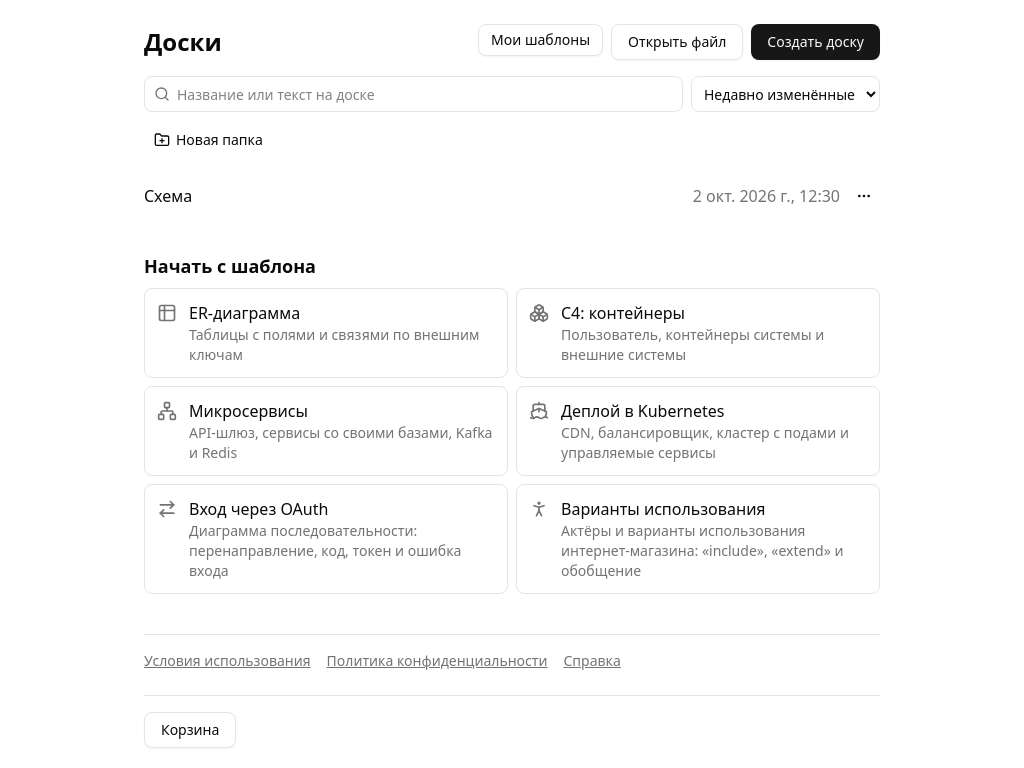
BoardsPage › keeps the title when renaming is cancelled with Escape or the title is left empty
This screenshot has width=1024, height=768.
Click the button named "Меню доски «Схема»" at (864, 196), box x1=848 y1=180 x2=880 y2=212
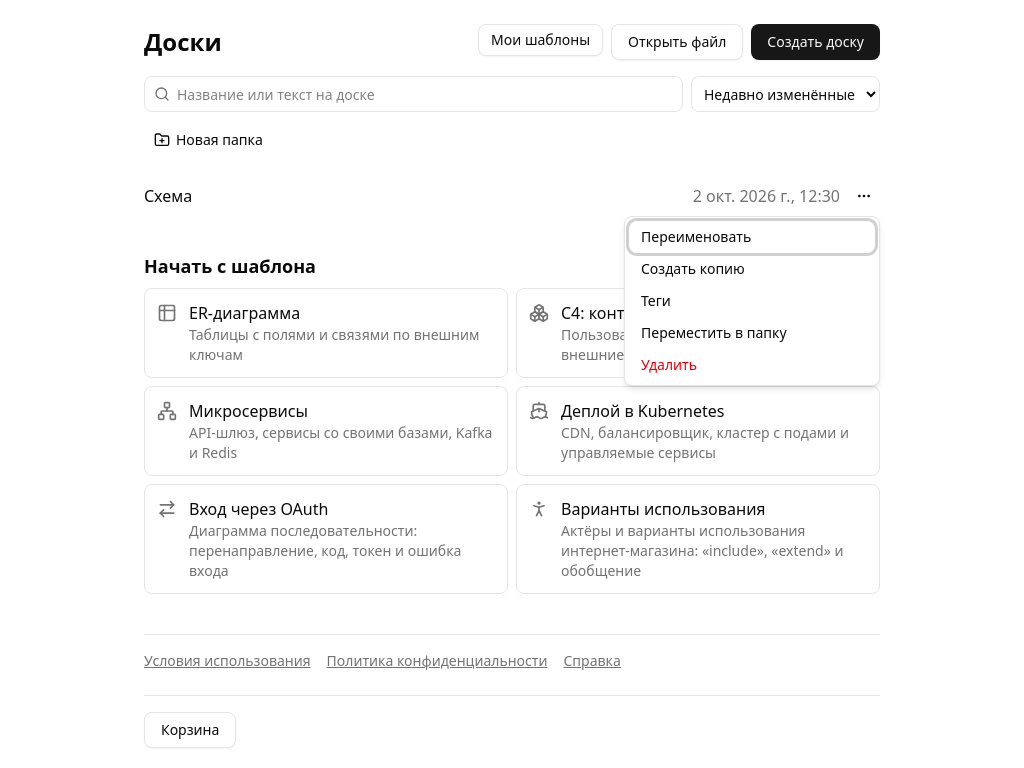
Click the menu item "Переименовать" at (752, 237), box x1=629 y1=221 x2=875 y2=253
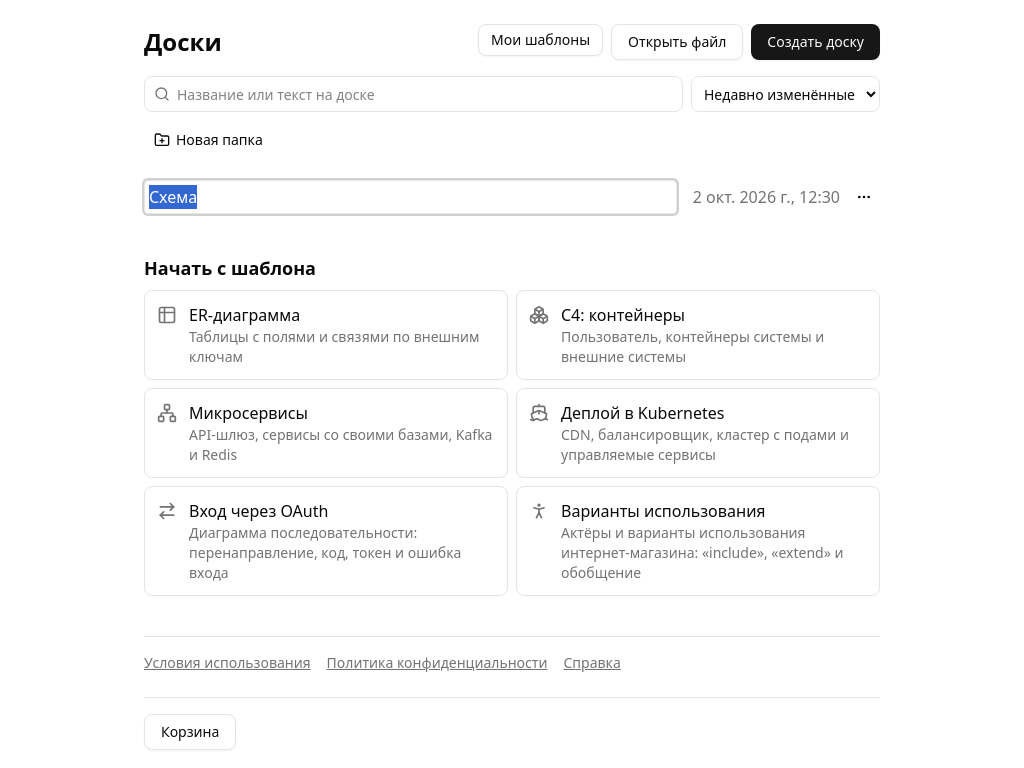
Type "Другая" into the field named "Название доски" at (410, 197), box x1=144 y1=180 x2=677 y2=214
Then press Escape
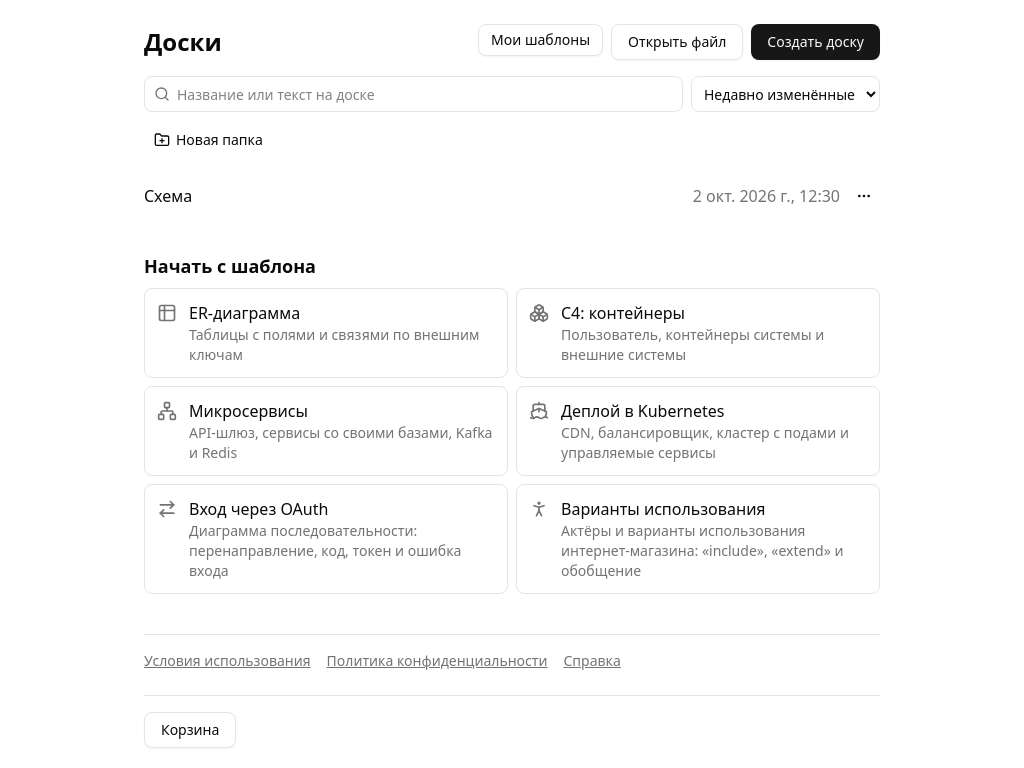
Click the button named "Меню доски «Схема»" at (864, 196), box x1=848 y1=180 x2=880 y2=212
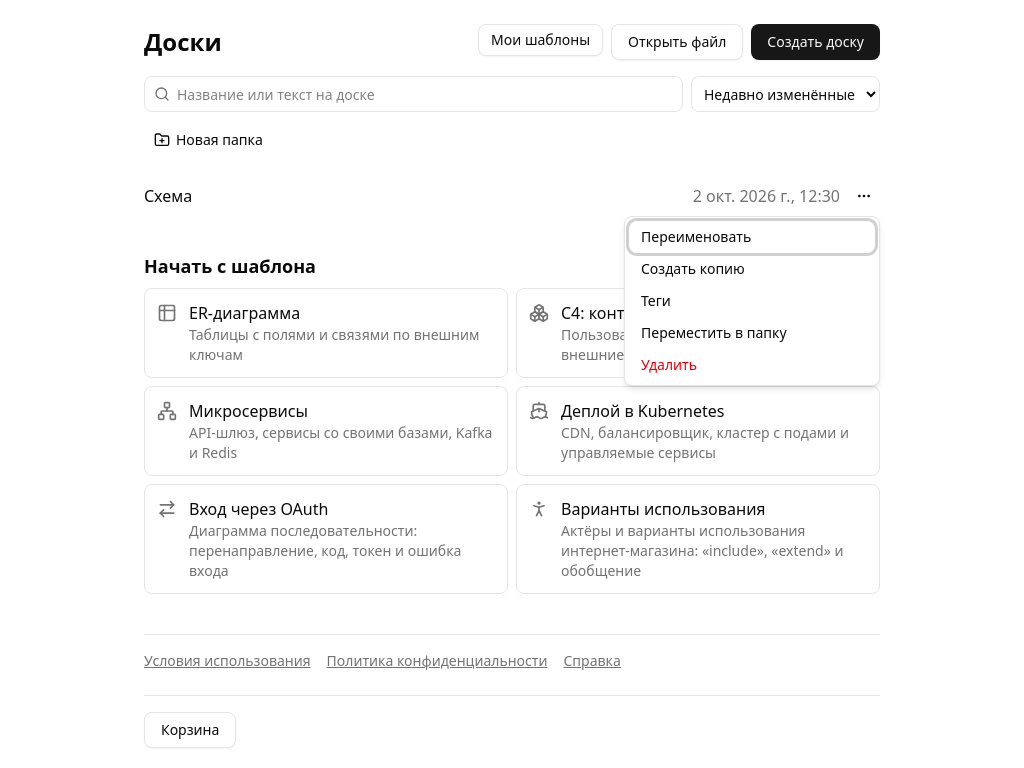
Click the menu item "Переименовать" at (752, 237), box x1=629 y1=221 x2=875 y2=253
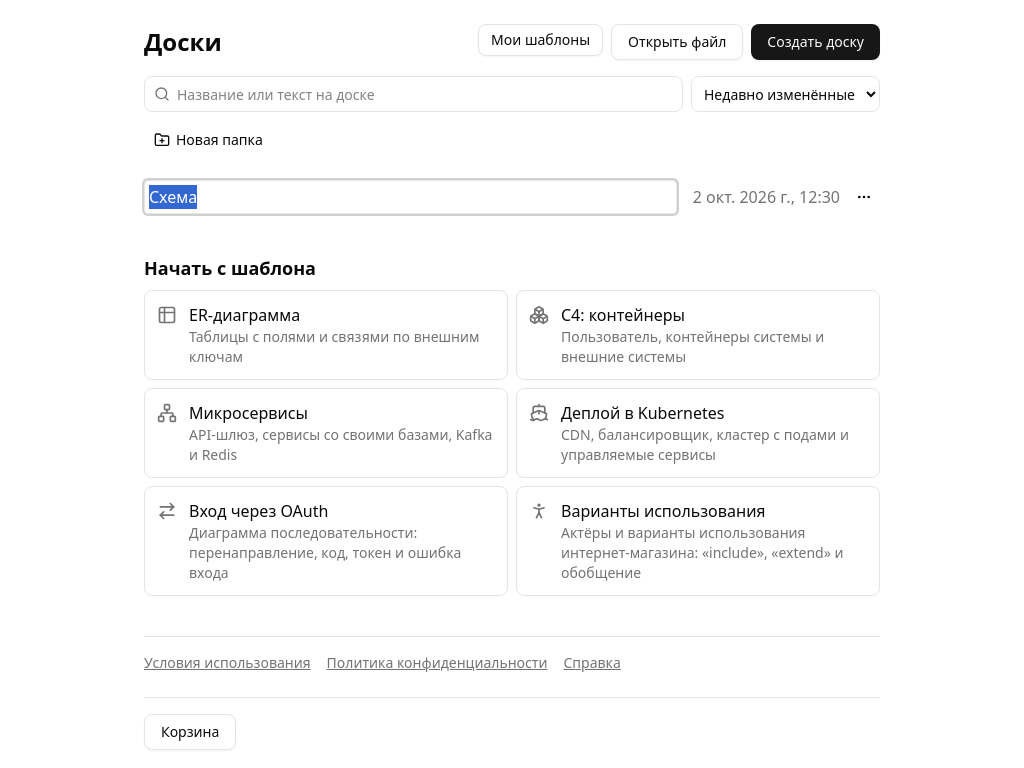
Clear the field named "Название доски" at (410, 197), box x1=144 y1=180 x2=677 y2=214
Type keys "   {Enter}"
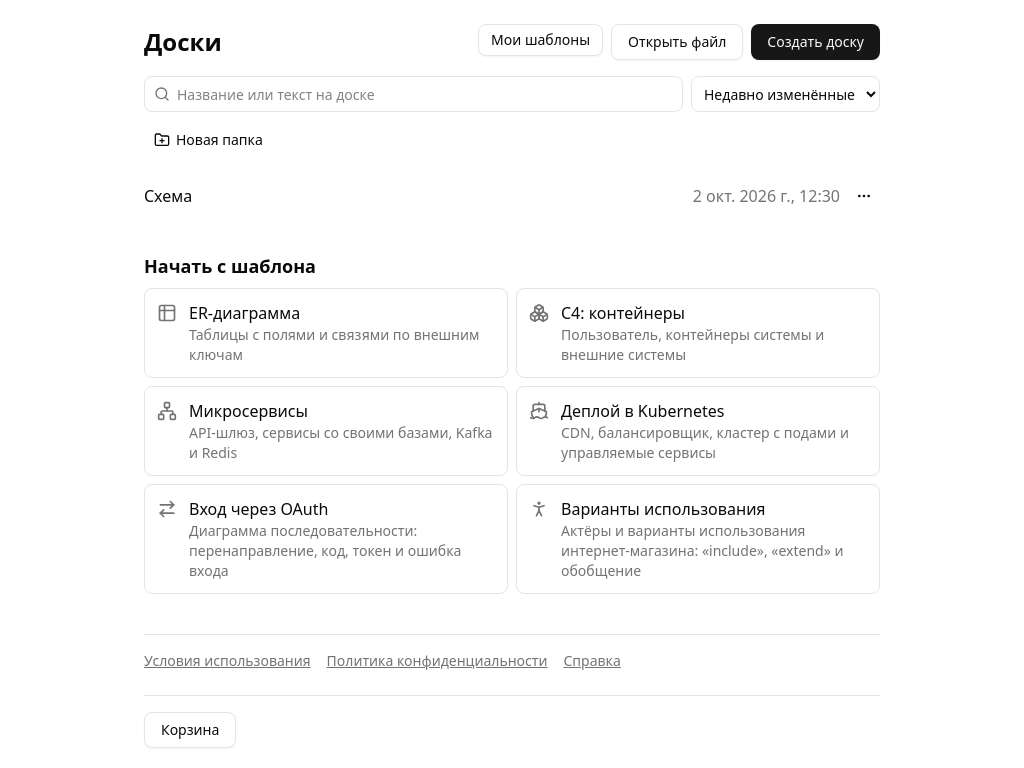
Check: the link "Схема" is shown, box x1=144 y1=185 x2=192 y2=207
